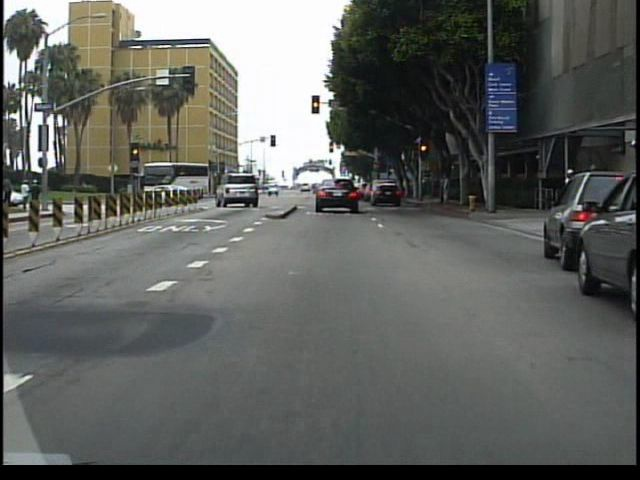person: (438, 167, 454, 209), (3, 172, 17, 209), (23, 177, 35, 214), (32, 175, 44, 203)
